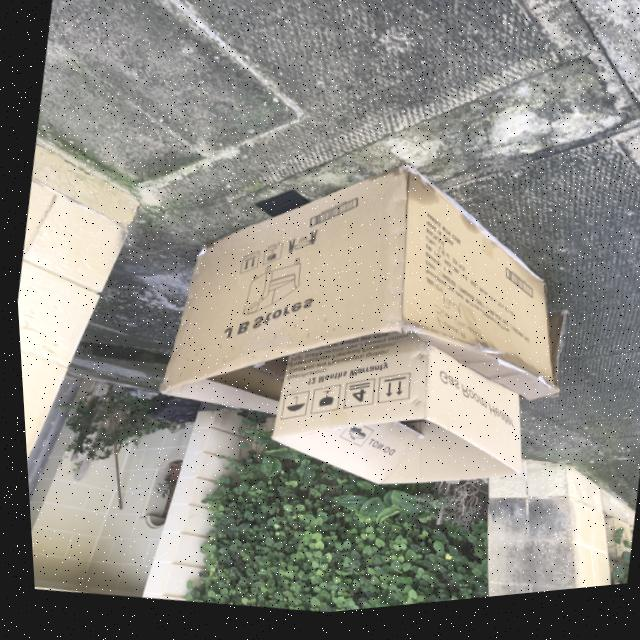Other: (139, 121, 589, 481), (257, 306, 539, 526)
